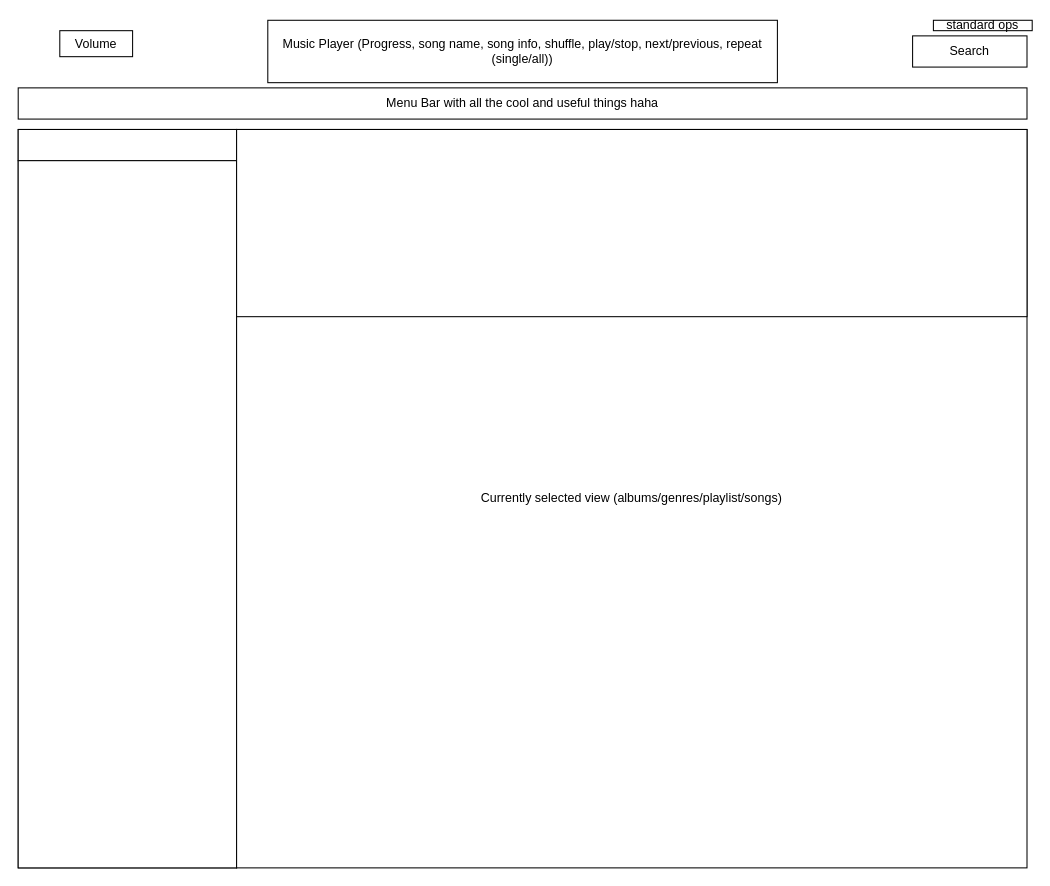
The diagram is 1050 pixels wide and 886 high, and some of its shapes have lost their labels. Each missing label, with the centre of its shape:
"If playlist: show name, song count + duration" belongs at point 631,222.
"New Playlist" belongs at point 127,144.
"Songs/Albums/Genres/Playlist (everything draggable, on double click play)" belongs at point 127,514.
